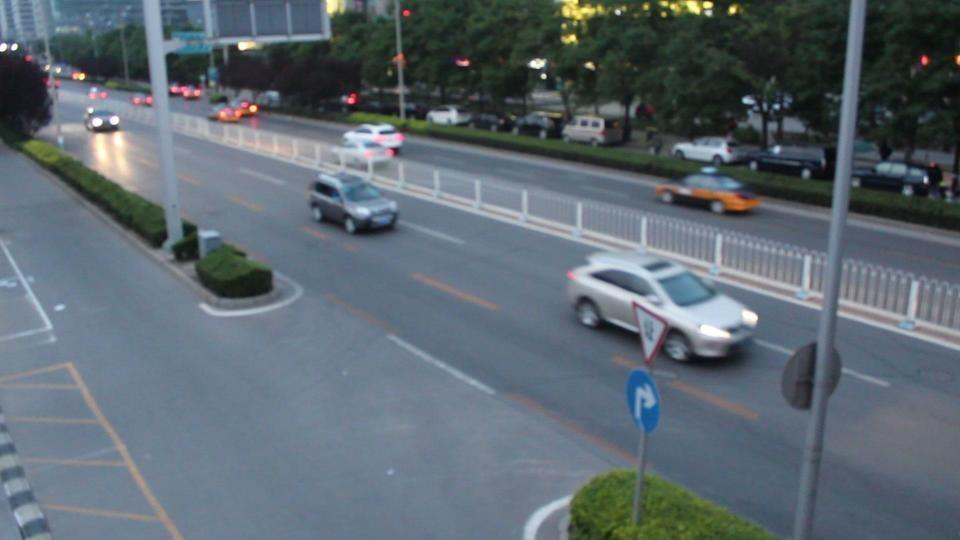car: (565, 250, 759, 365), (304, 171, 400, 235), (654, 171, 764, 216), (855, 160, 942, 197), (741, 145, 831, 180), (670, 137, 755, 166), (337, 125, 403, 162), (562, 116, 625, 147), (512, 112, 564, 140), (212, 98, 259, 123), (426, 106, 473, 128), (84, 108, 121, 132), (169, 83, 205, 100), (87, 85, 109, 101), (130, 93, 155, 107)
